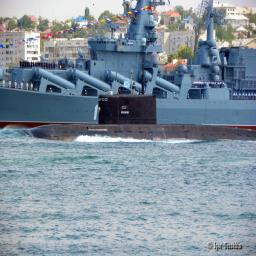submarine: (24, 90, 256, 140)
